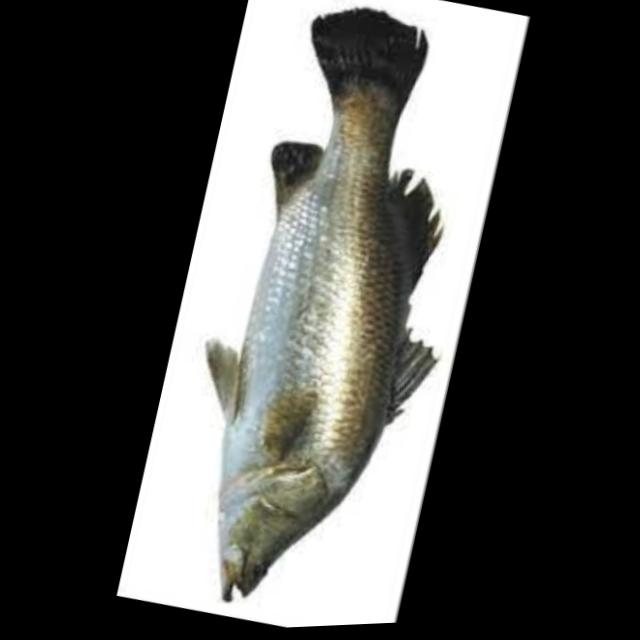Seabass: (145, 0, 521, 634)
